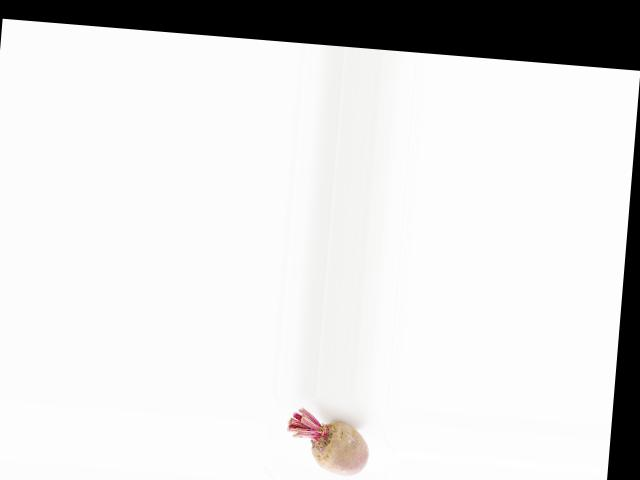beet: (284, 405, 373, 477)
